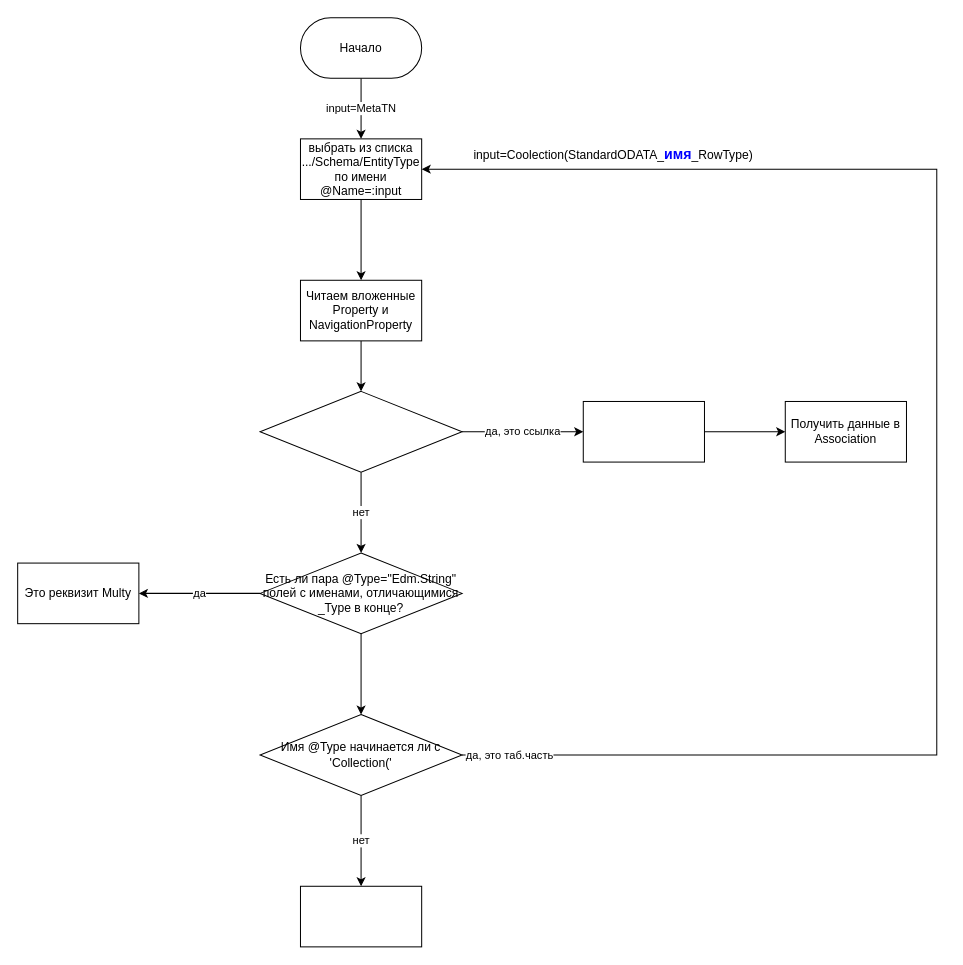
Some shapes in this 963 by 965 pixel diagram are drawn without their labels. The centre of each missing label's shape, as x and y in pixels:
Property @Name: на конце _Key и @Type="Edm.Guid"?: (x=360, y=431)
Получить данные в NavigationProperty: (x=643, y=431)
Это примитивный тип: (x=360, y=916)
